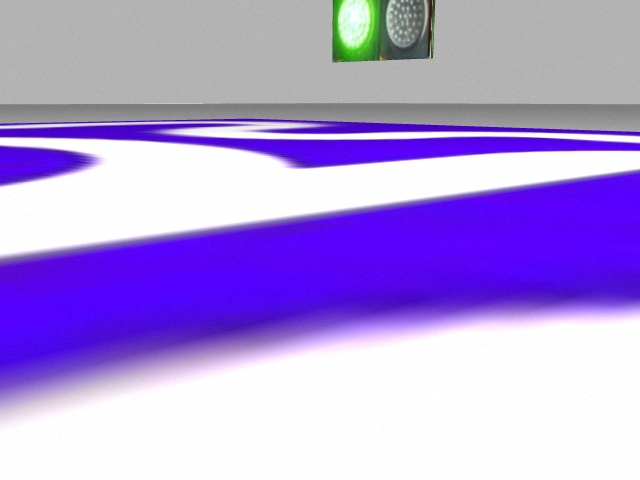green: (332, 1, 382, 62)
